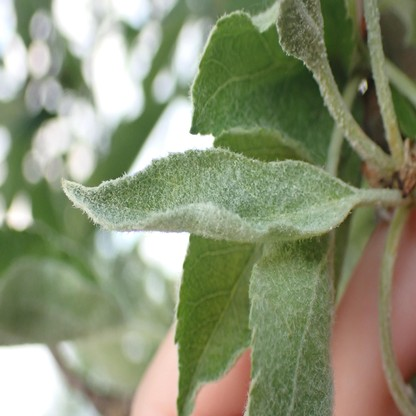powdery_mildew: (60, 147, 359, 242), (191, 10, 325, 163), (249, 244, 335, 416), (277, 4, 324, 56)
